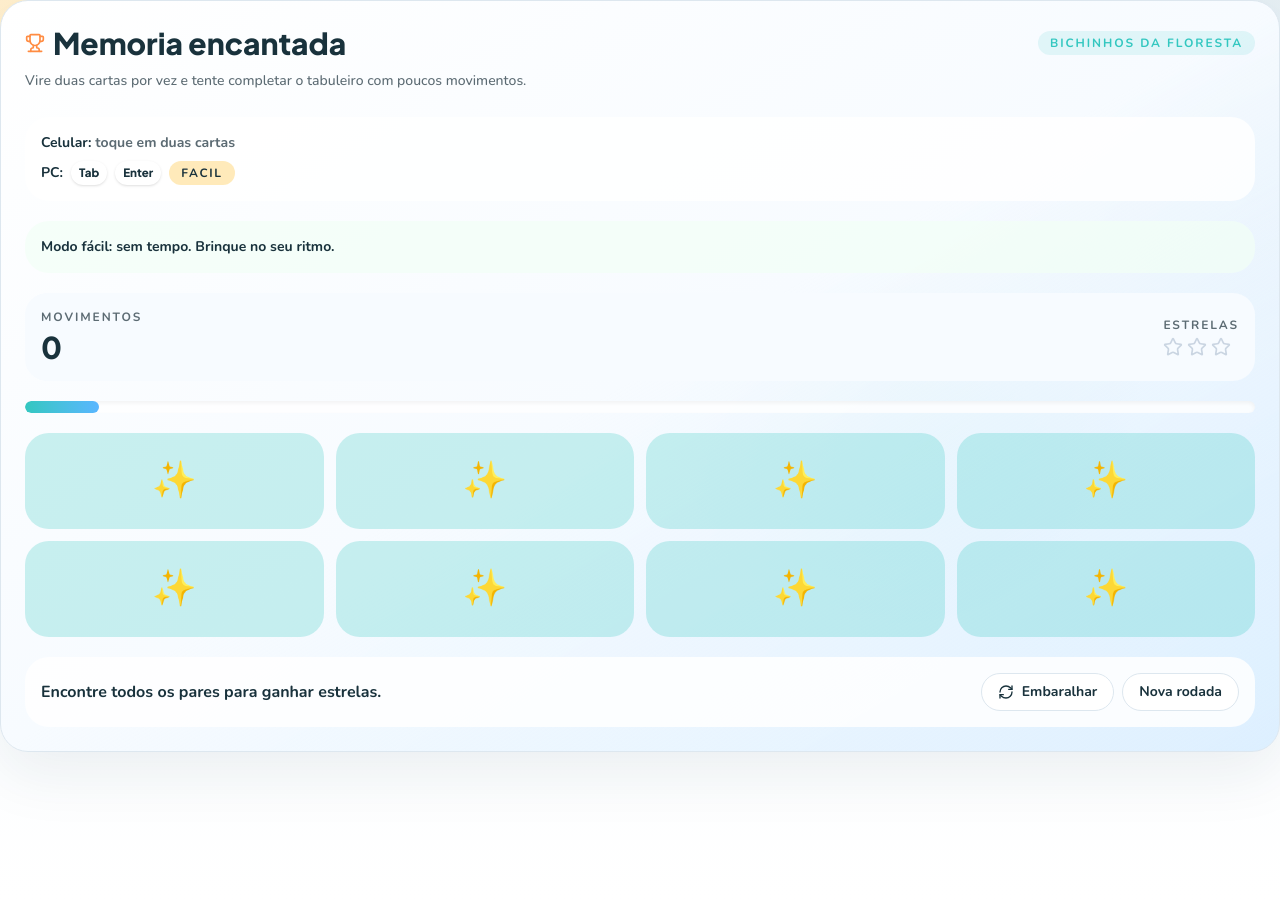
Test: Mini game difficulty and keyboard controls › starts a memory round with a new theme
Expected: the text "Bichinhos da floresta" is shown, [1038,31,1255,55]
What coordinates should you click on to do the following:
click the button "Nova rodada"
I would click on:
 (1181, 692)
Its box is [1122,673,1239,711].
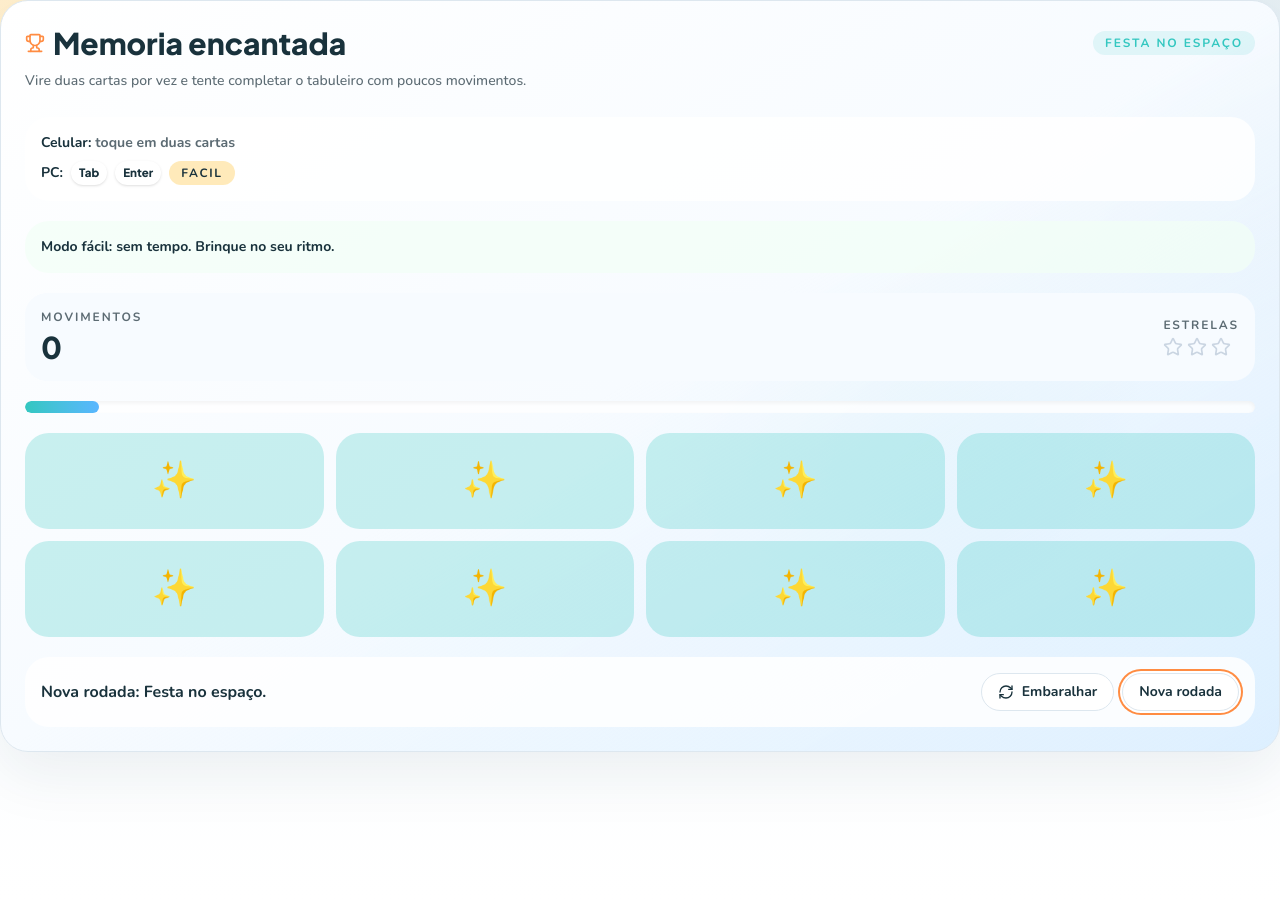
Now the text "Festa no espaço" is shown, box [1093,31,1255,55]
